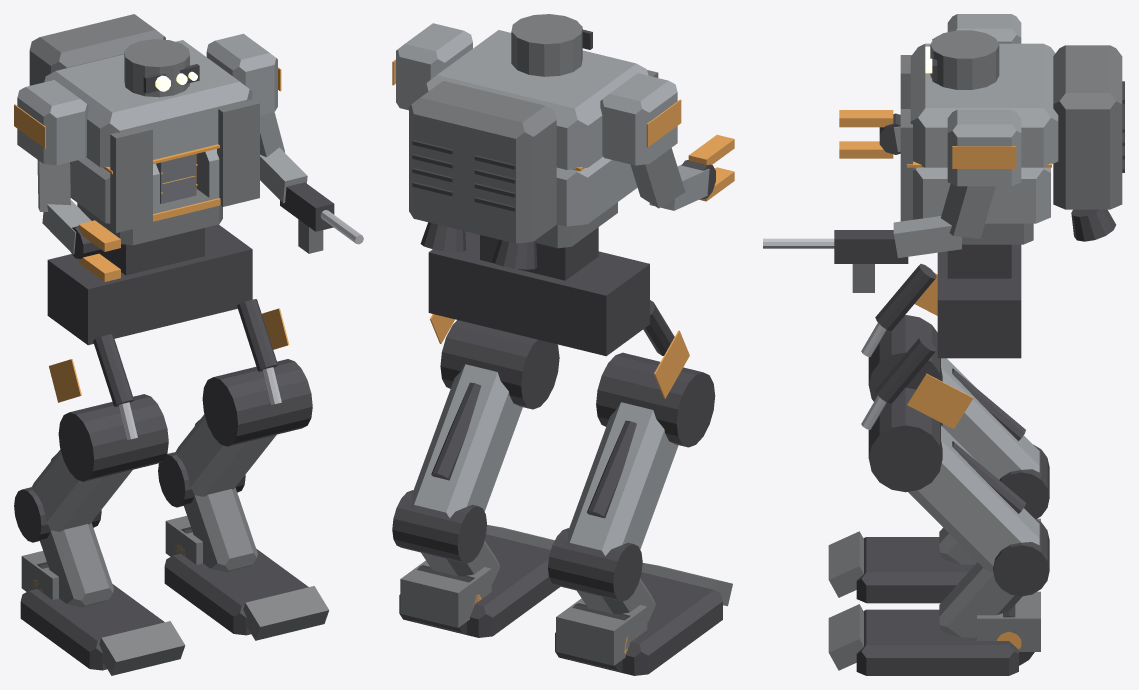
Rendered from roustabout.glb.
3 views of the same model, side by side, from view 1: azimuth 30°, elevation 25°; view 2: azimuth 150°, elevation 25°; view 3: azimuth 270°, elevation 25° (orthographic). The views are drawn at different scales.
Visible parts, largest first — view 1: hips, chest_upper, knee1, knee-1, foot1_sole, foot-1_sole, backpack, shoulder-1, cheek-1, meta-1, meta1, cheek1 (+30 smaller); view 2: backpack, hips, chest_upper, shin-1, shin1, knee-1, knee1, foot-1_sole, foot1_sole, shoulder-1, hock1, hock-1 (+23 smaller); view 3: backpack, chest_upper, foot1_sole, hips, shin1, foot-1_sole, knee1, chest_lower, shoulder1, shin-1, turret, meta1 (+27 smaller).
Part boxes in pixels (x1=…): hips: x1=47, y1=224, x2=252, y2=345; chest_upper: x1=44, y1=40, x2=252, y2=167; knee1: x1=202, y1=359, x2=312, y2=446; knee-1: x1=58, y1=394, x2=168, y2=481; foot1_sole: x1=164, y1=549, x2=308, y2=635; foot-1_sole: x1=20, y1=584, x2=164, y2=670; backpack: x1=29, y1=14, x2=165, y2=85; shoulder-1: x1=17, y1=80, x2=88, y2=165; cheek-1: x1=110, y1=126, x2=152, y2=232; meta-1: x1=40, y1=522, x2=113, y2=607; meta1: x1=184, y1=487, x2=257, y2=572; cheek1: x1=217, y1=99, x2=259, y2=206; backpack: x1=409, y1=81, x2=556, y2=243; hips: x1=428, y1=231, x2=649, y2=356; chest_upper: x1=423, y1=30, x2=648, y2=169; shin-1: x1=566, y1=402, x2=678, y2=555; shin1: x1=411, y1=364, x2=522, y2=517; knee-1: x1=596, y1=352, x2=715, y2=447; knee1: x1=440, y1=320, x2=559, y2=409; foot-1_sole: x1=555, y1=572, x2=722, y2=675; foot1_sole: x1=399, y1=534, x2=560, y2=637; shoulder-1: x1=600, y1=73, x2=677, y2=165; hock1: x1=392, y1=490, x2=486, y2=563; hock-1: x1=548, y1=528, x2=642, y2=601; backpack: x1=1053, y1=45, x2=1122, y2=209; chest_upper: x1=910, y1=43, x2=1058, y2=167; foot1_sole: x1=856, y1=609, x2=1018, y2=675; hips: x1=937, y1=244, x2=1021, y2=358; shin1: x1=908, y1=425, x2=1039, y2=572; foot-1_sole: x1=856, y1=537, x2=974, y2=603; knee1: x1=868, y1=387, x2=942, y2=492; chest_lower: x1=913, y1=167, x2=1050, y2=223; shoulder1: x1=947, y1=109, x2=1021, y2=186; shin-1: x1=941, y1=358, x2=1039, y2=479; turret: x1=930, y1=30, x2=999, y2=89; meta1: x1=939, y1=562, x2=1022, y2=637.
Bounding box in the file's own units: 11.92 × 25.75 × 14.71.
